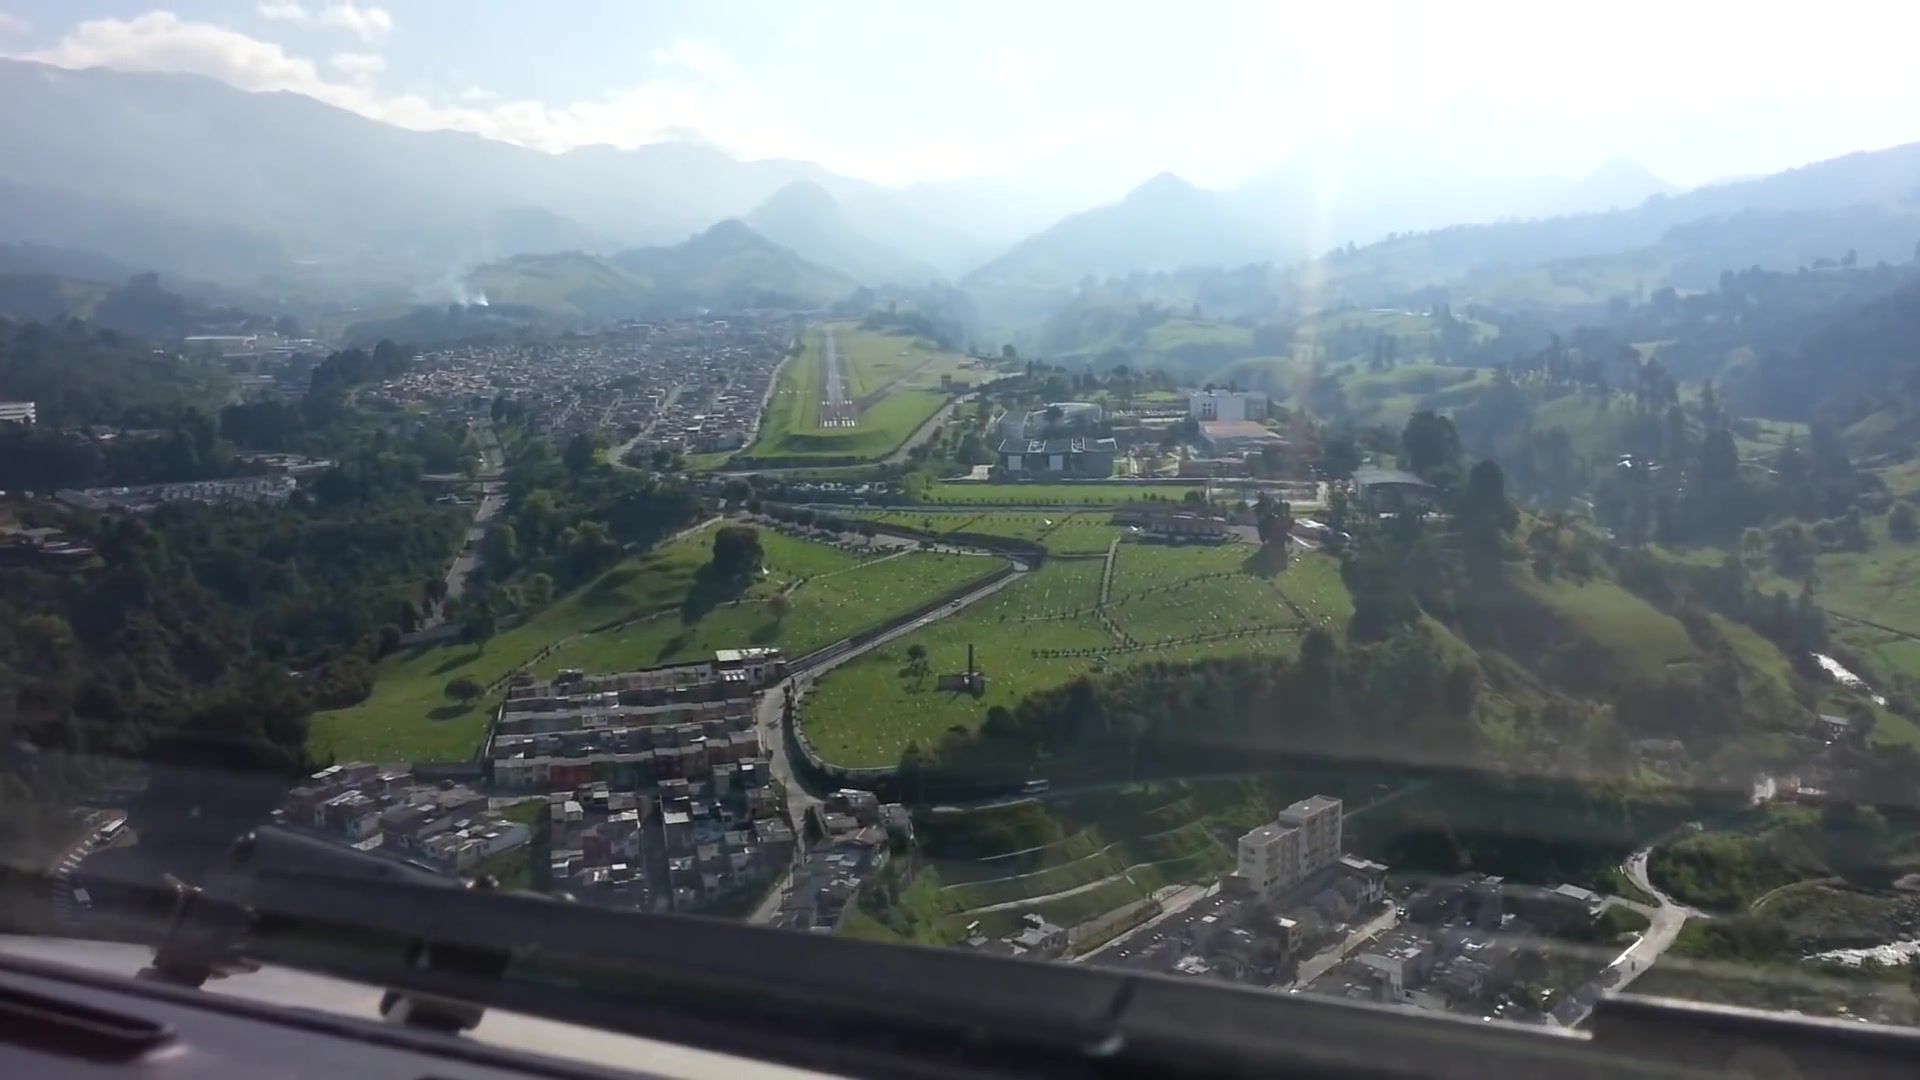entrance: (822, 418, 855, 429)
runway: (816, 330, 861, 431)
